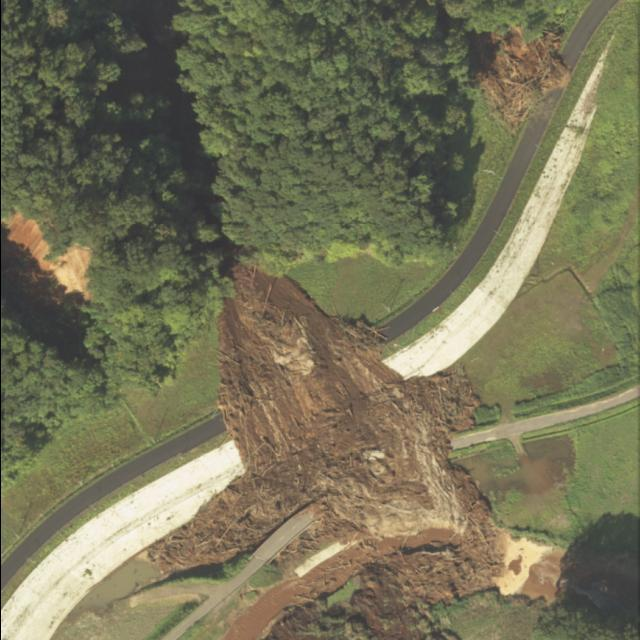landslide: (148, 267, 504, 604), (476, 24, 569, 127)
